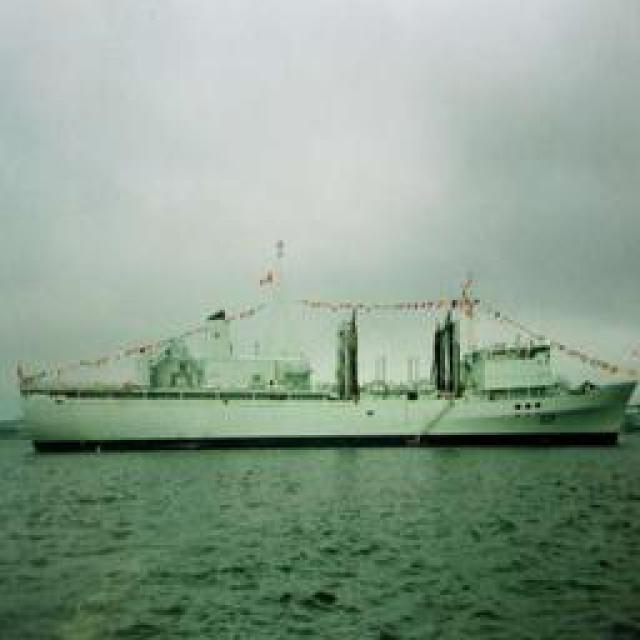Ship: (18, 267, 626, 447)
